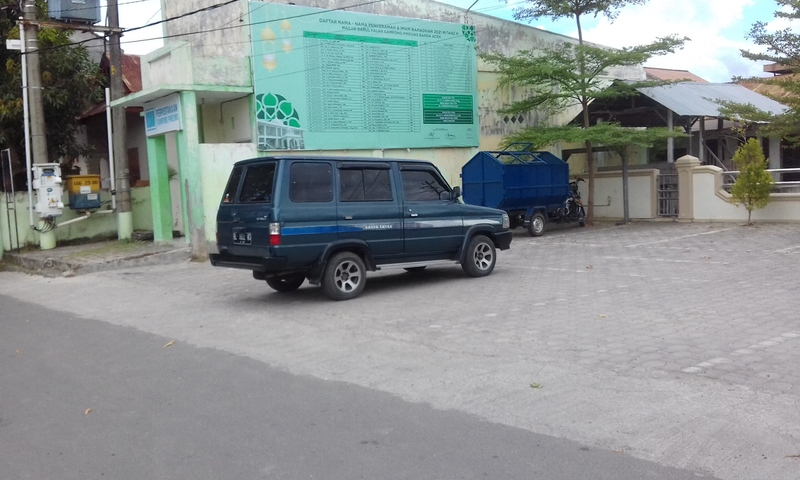car: (208, 150, 512, 300)
